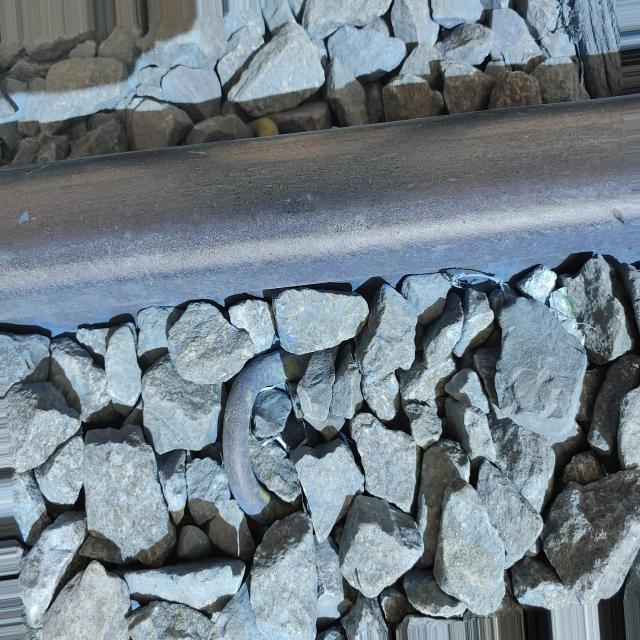Good Fasteners: (222, 348, 310, 520)
